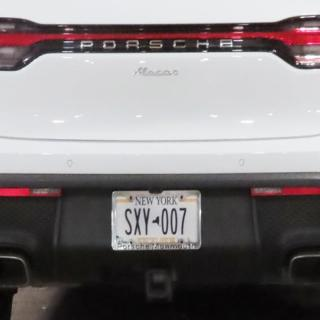license: (112, 191, 203, 252)
